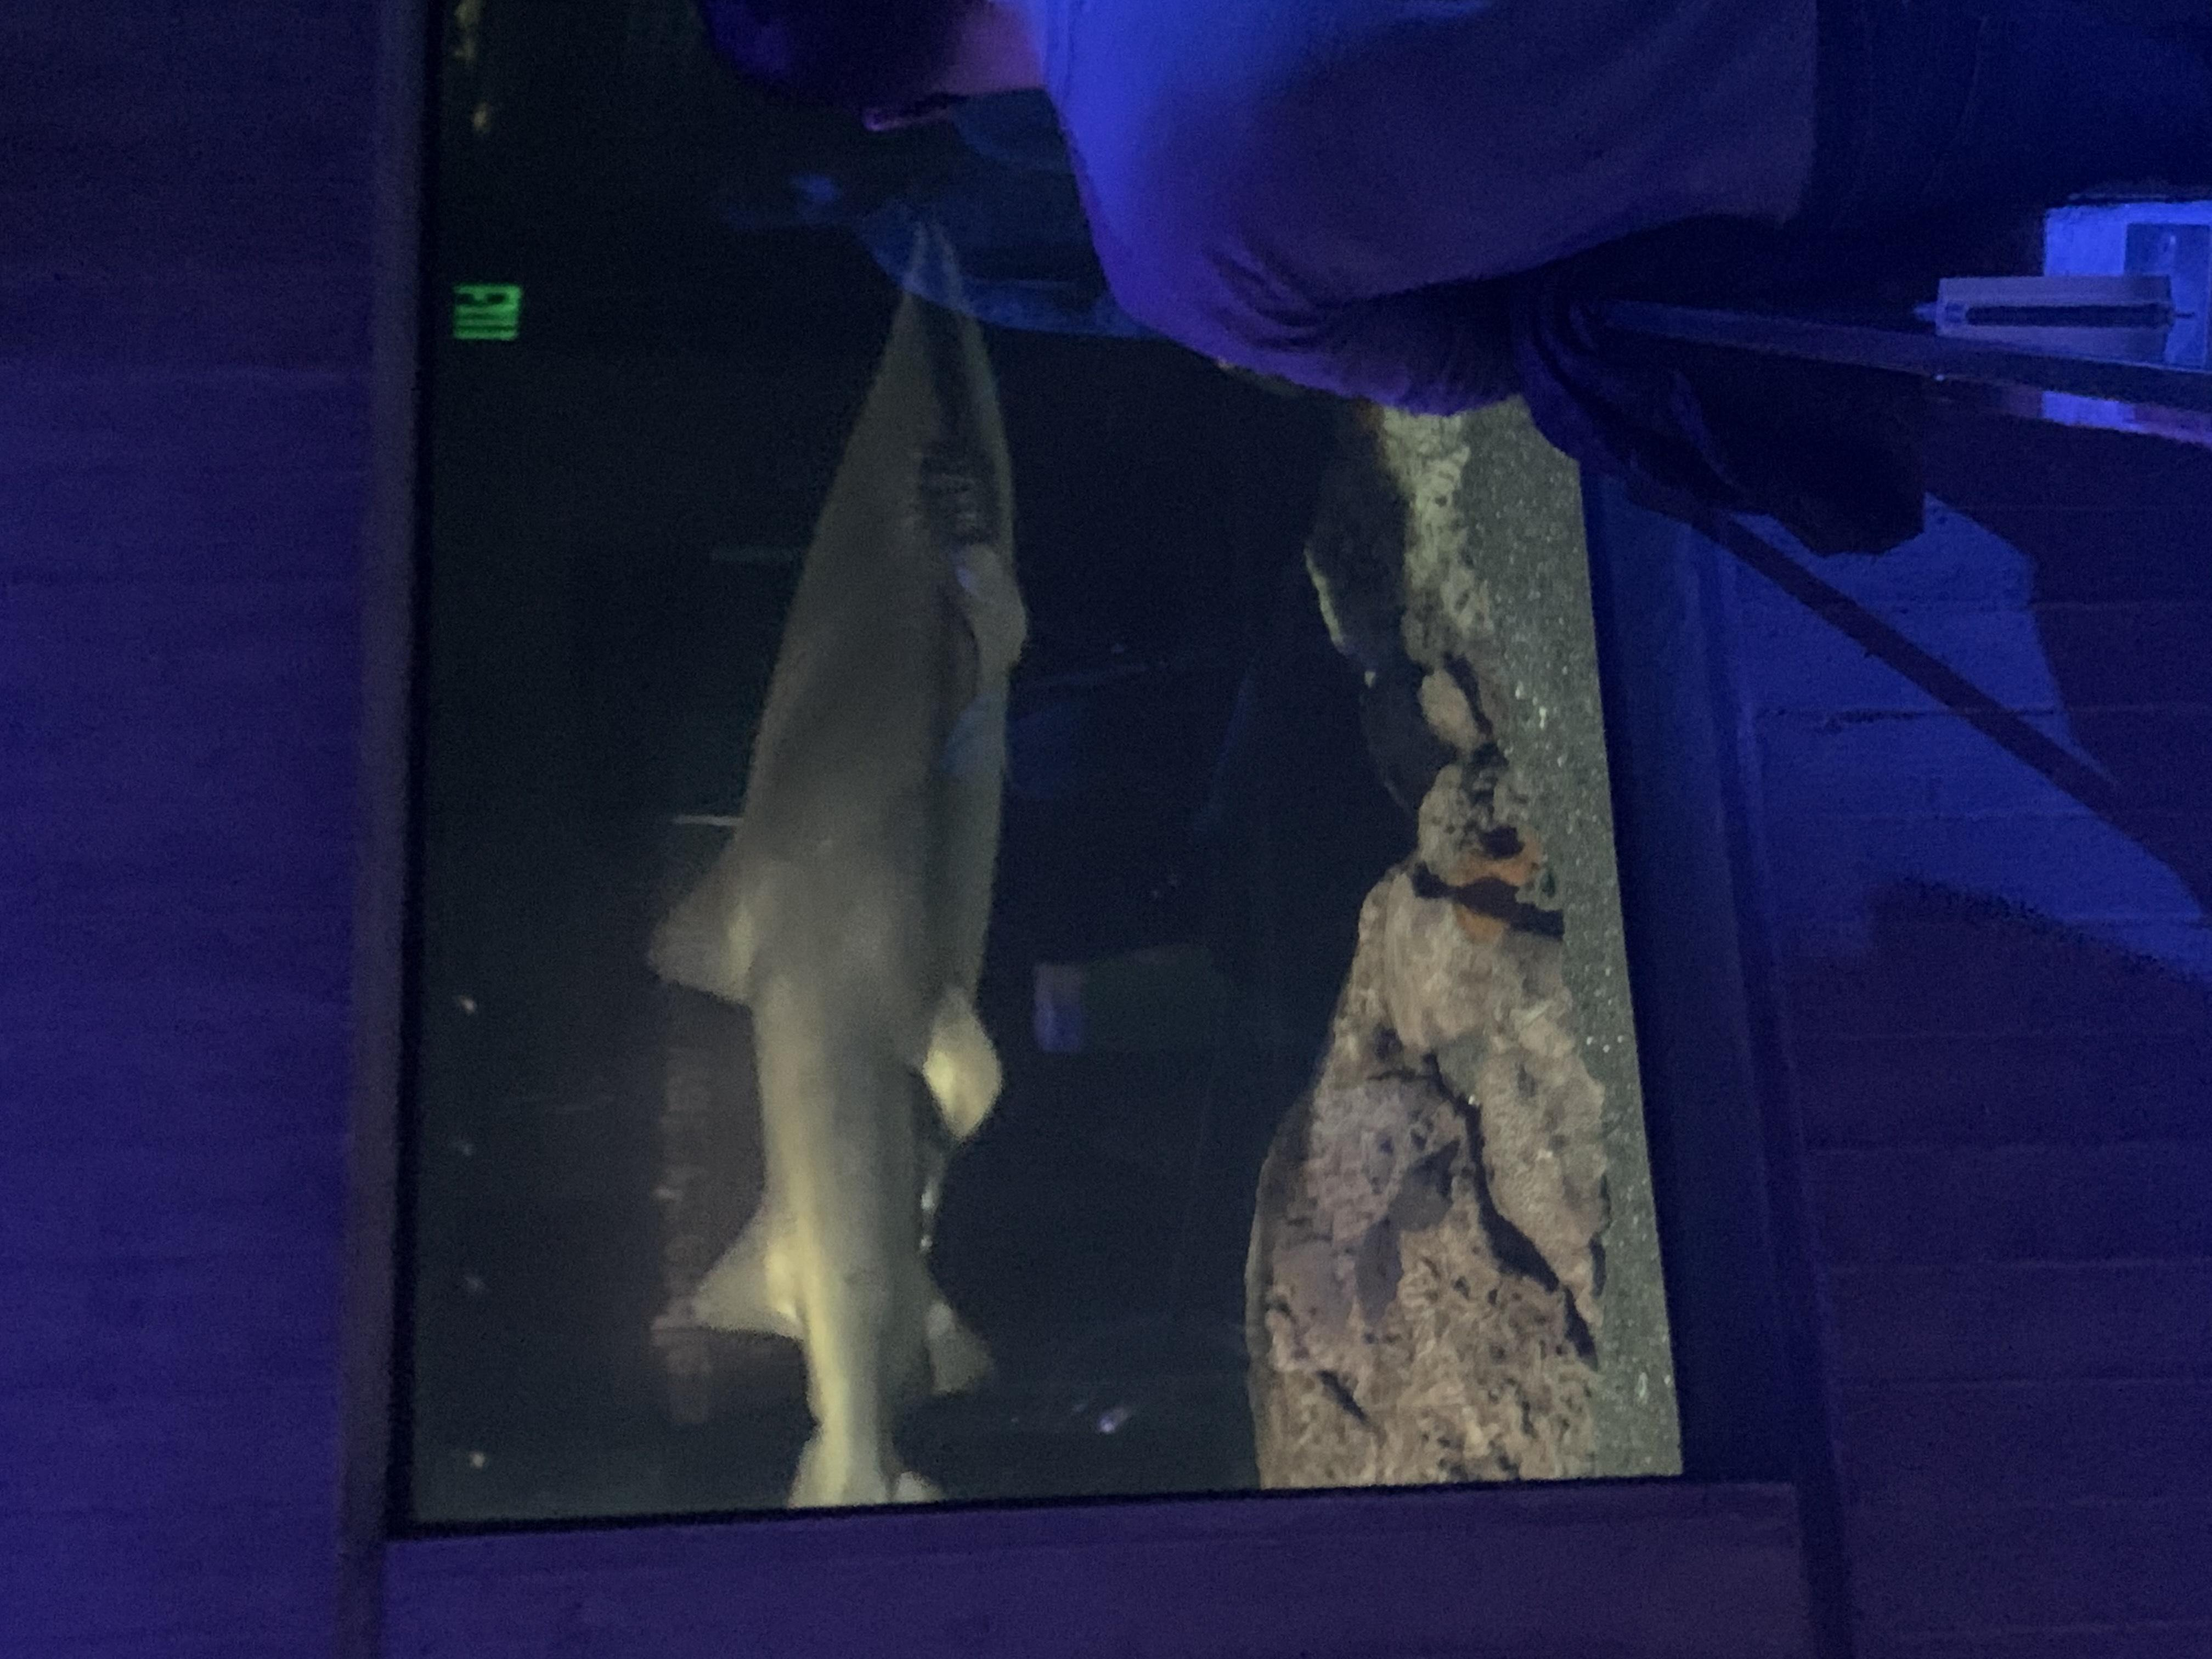shark: (631, 214, 1036, 1520)
